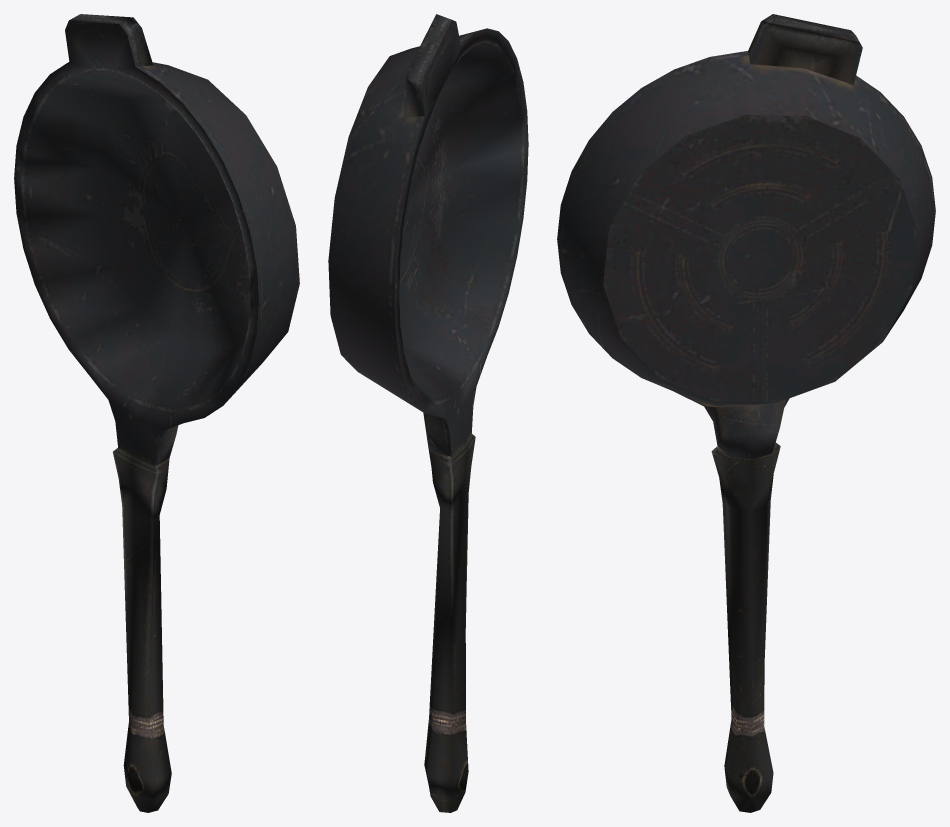
File: Melee_Prop_Frying_Pan_Main_(000021).glb
The picture shows the model from 3 angles, left to right: view 1: azimuth 30°, elevation 25°; view 2: azimuth 150°, elevation 25°; view 3: azimuth 270°, elevation 25°; orthographic projection. The views are drawn at different scales.
Visible parts, largest first — view 1: Cylinder; view 2: Cylinder; view 3: Cylinder.
Part boxes in pixels (x1,y1,x2,y2): Cylinder: [14, 14, 299, 812]; Cylinder: [328, 14, 528, 812]; Cylinder: [557, 14, 935, 812].
Size of the model in its own units: 0.1275 by 0.7923 by 0.343.
Materials: 1 (1 with a texture image).
